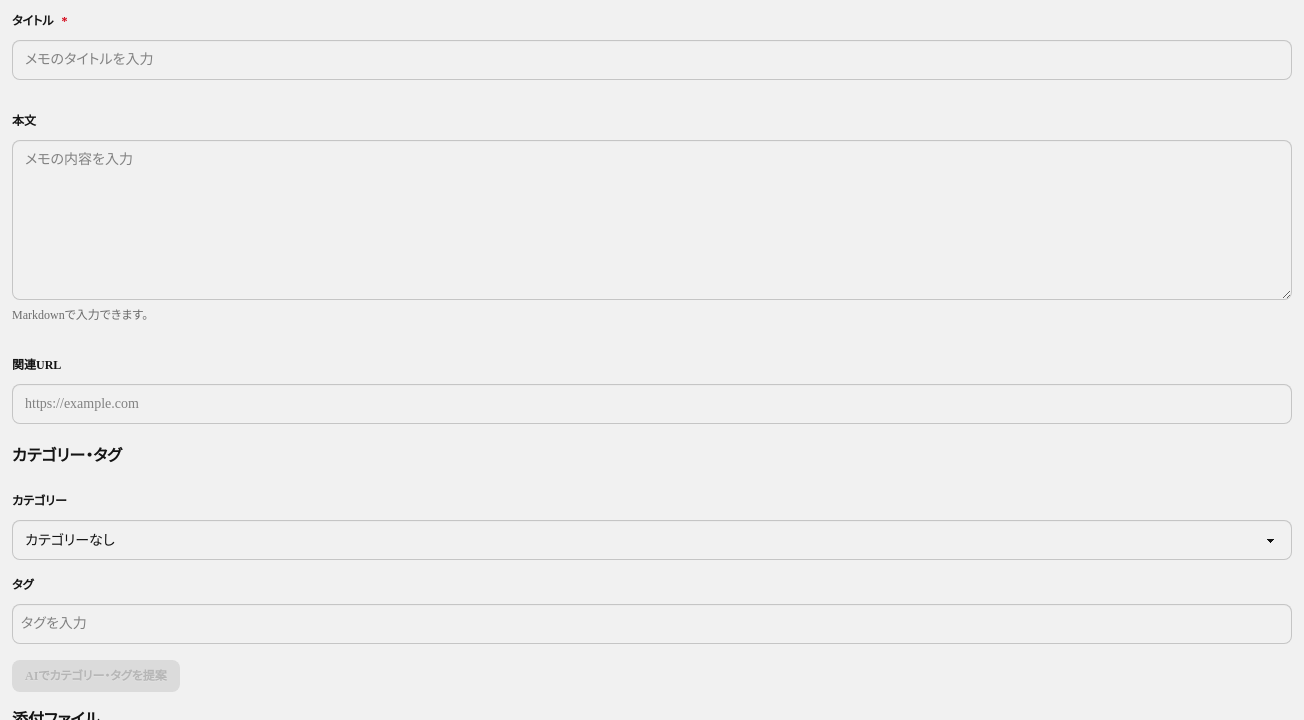
メモ作成フォーム › AIサジェスト待機中に入力を変更して戻しても古い結果を反映しない
This screenshot has width=1304, height=720.
Type "変更前" into the field labelled "タイトル *" at (652, 60), box [12,40,1292,80]
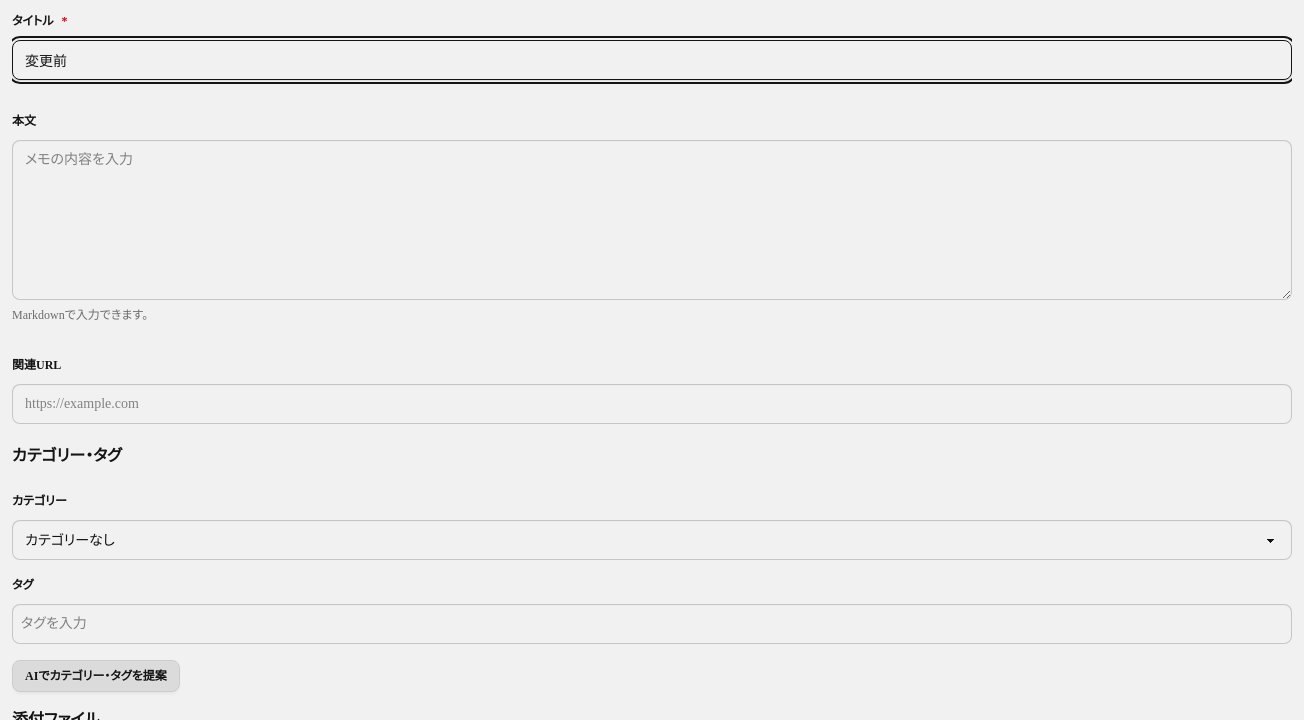
Click the button "AIでカテゴリー・タグを提案" at (96, 676), box [12,660,180,692]
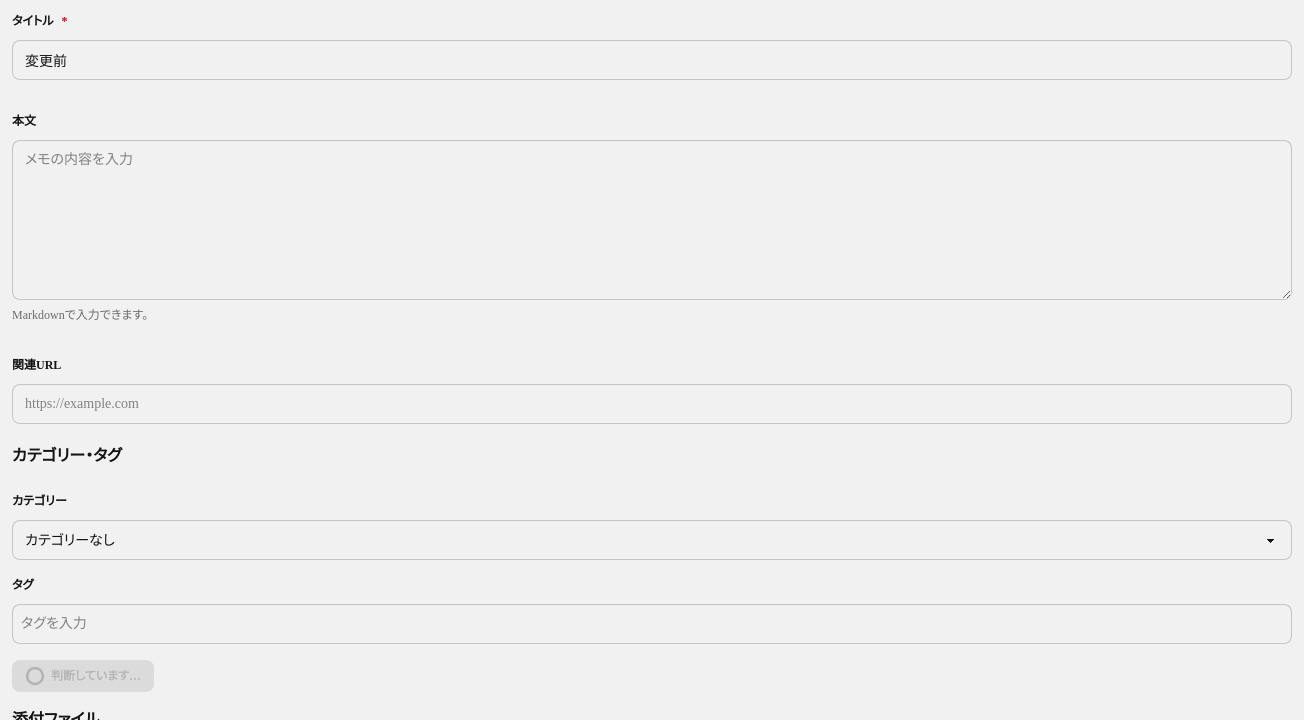
Replace the text in the field labelled "タイトル *" with "変更後" at (652, 60), box [12,40,1292,80]
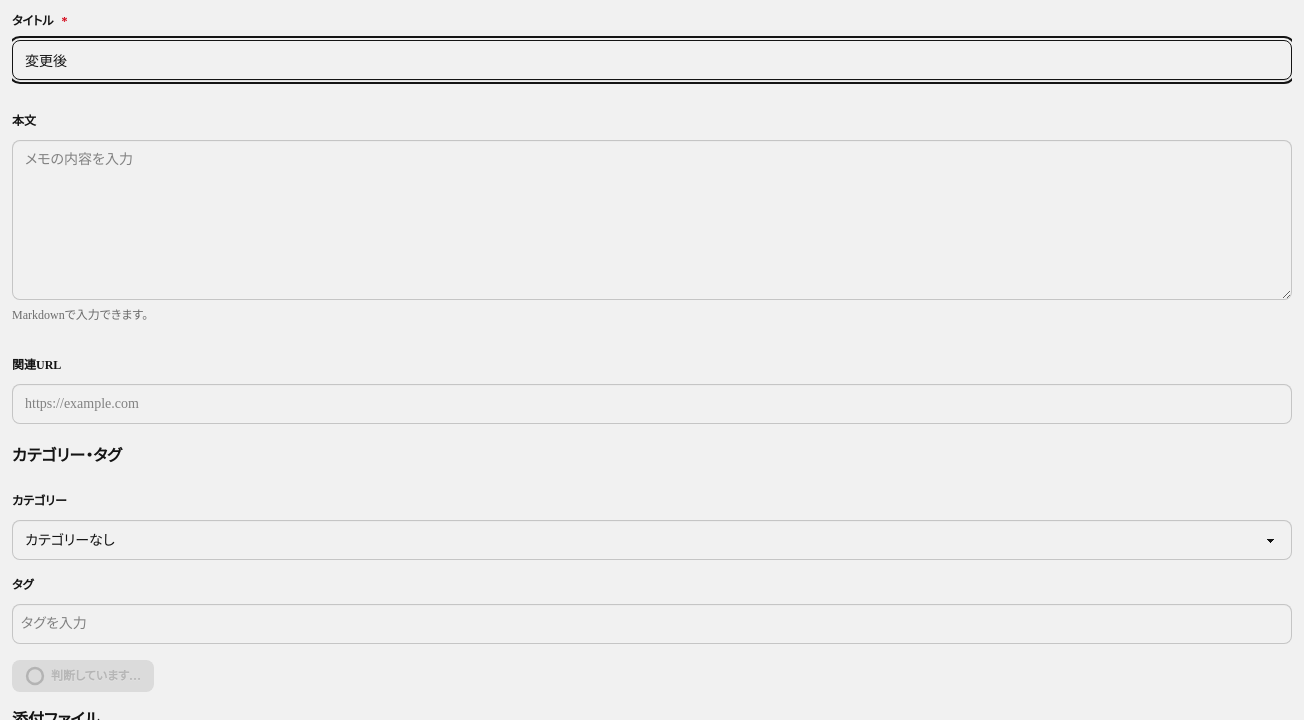
Replace the text in the field labelled "タイトル *" with "変更前" at (652, 60), box [12,40,1292,80]
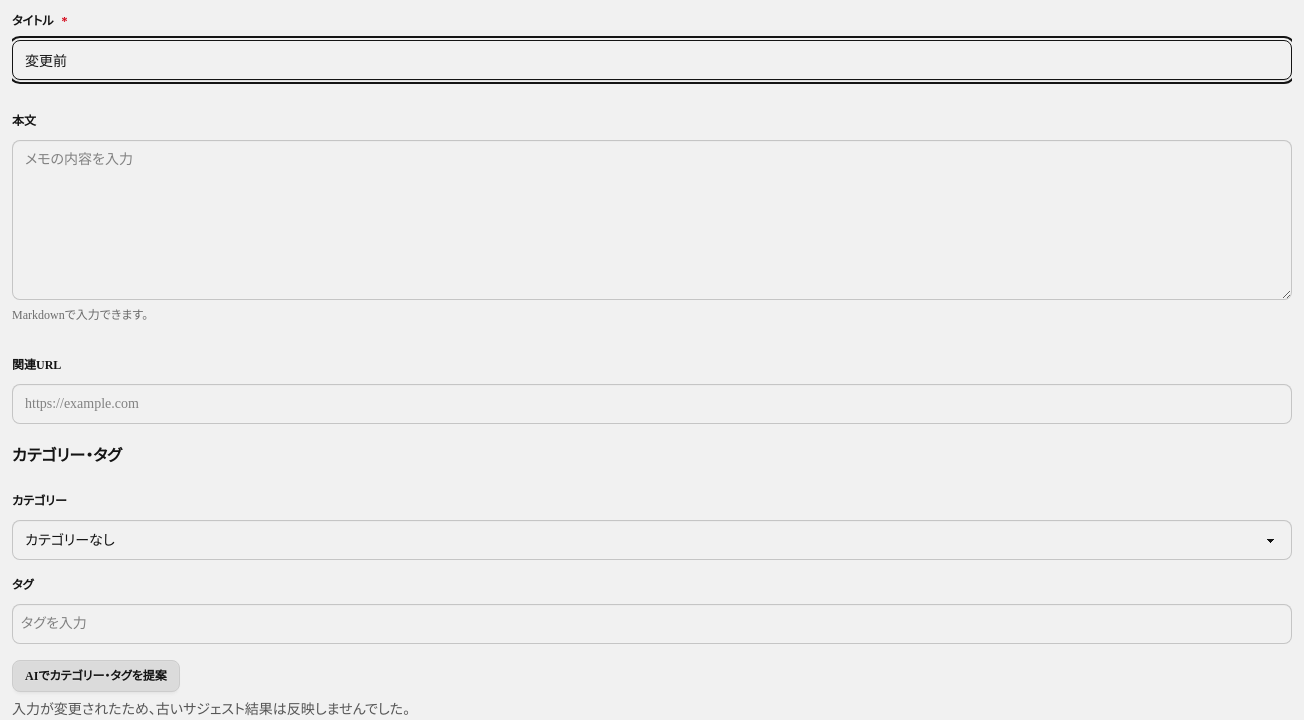
Expected: the dropdown labelled "カテゴリー" shows "カテゴリーなし", [12,520,1292,560]
Expected: the text "入力が変更されたため、古いサジェスト結果は反映しませんでした。" is shown, [12,702,410,717]
